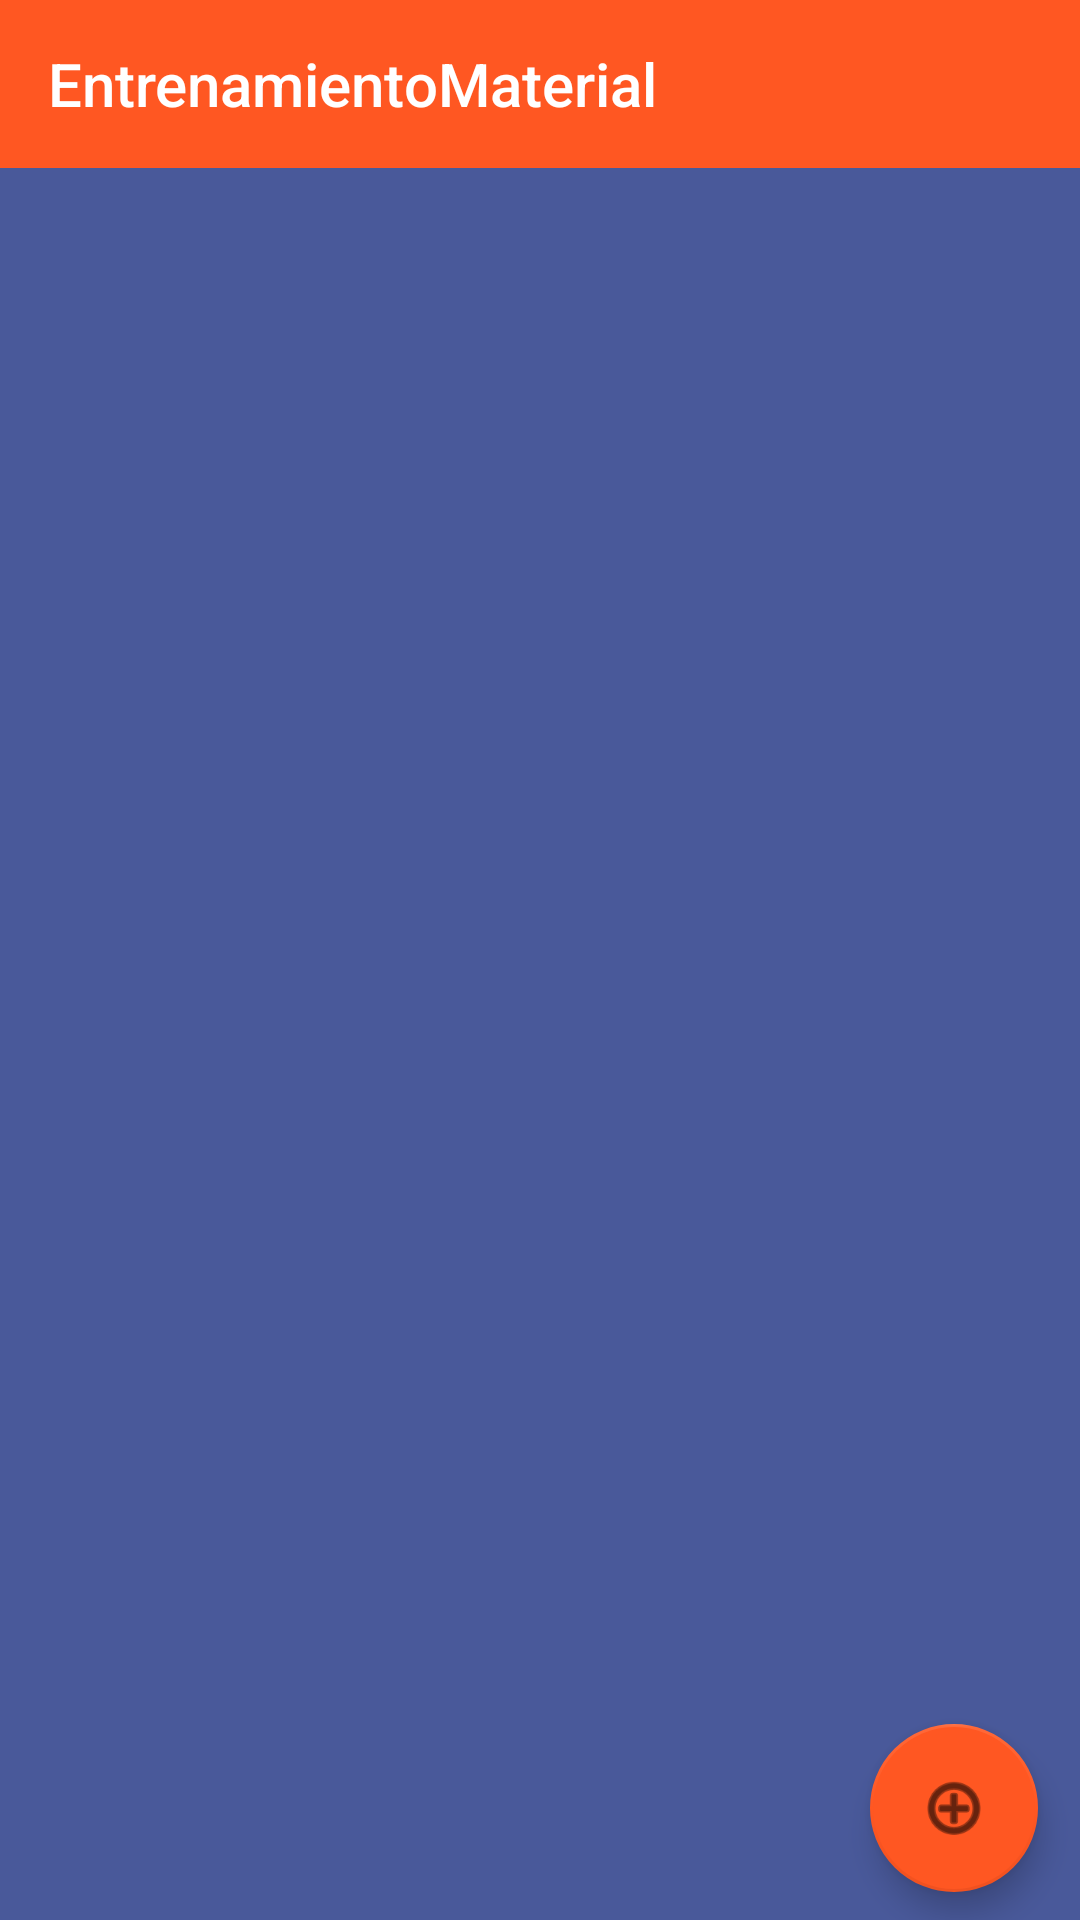

Icons on this 1080w x 1920h Android screen, each with the point to tap as point (x, y):
Add Training: point (954, 1808)
